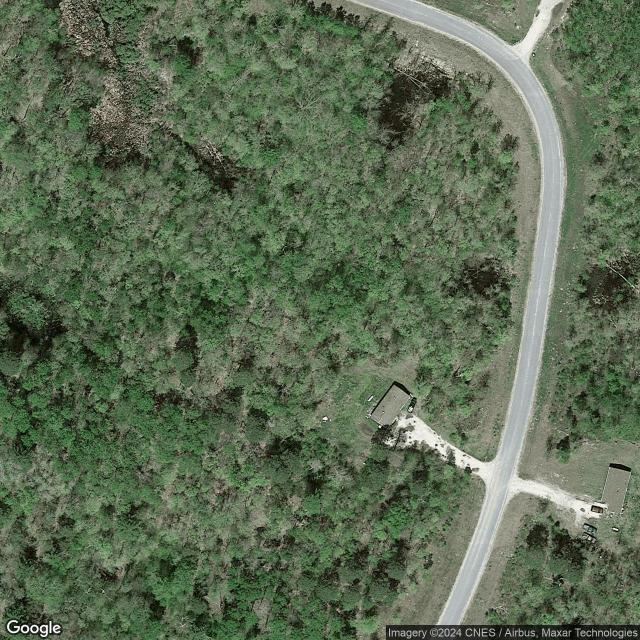Propane: (366, 393, 375, 403), (611, 526, 620, 533)
